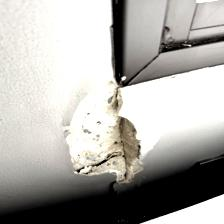High: (58, 79, 166, 194)
